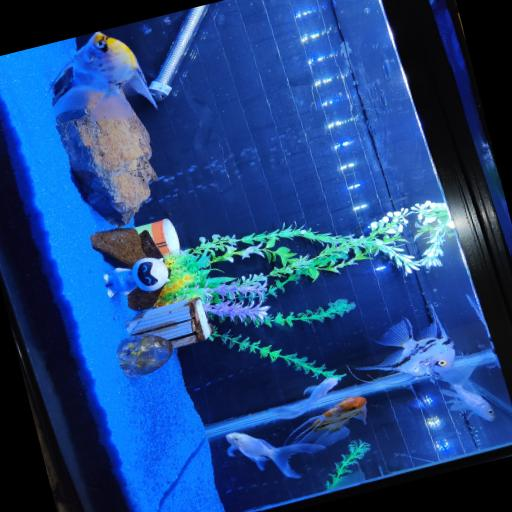Fish: (53, 32, 156, 119), (354, 304, 454, 376), (225, 432, 323, 477), (286, 396, 365, 445), (437, 365, 494, 420), (273, 376, 338, 418)
